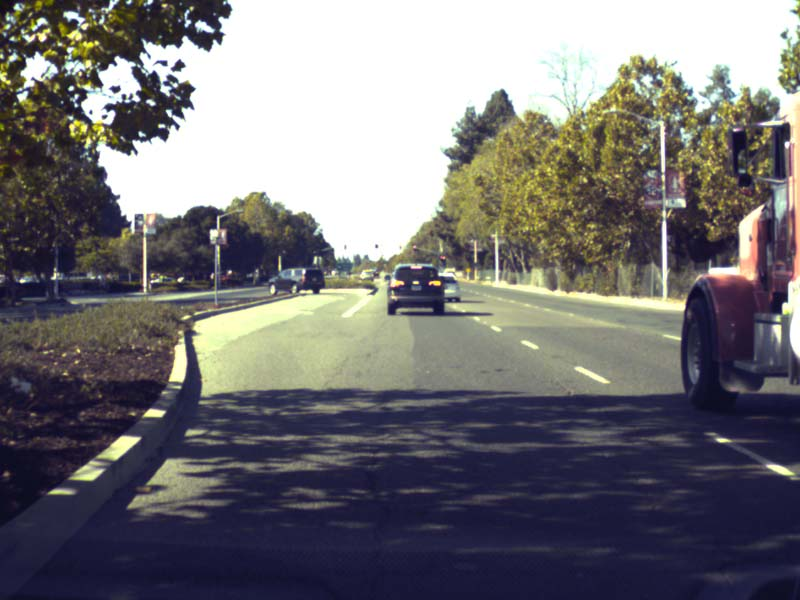Red: (440, 255, 445, 267), (413, 244, 416, 253)
